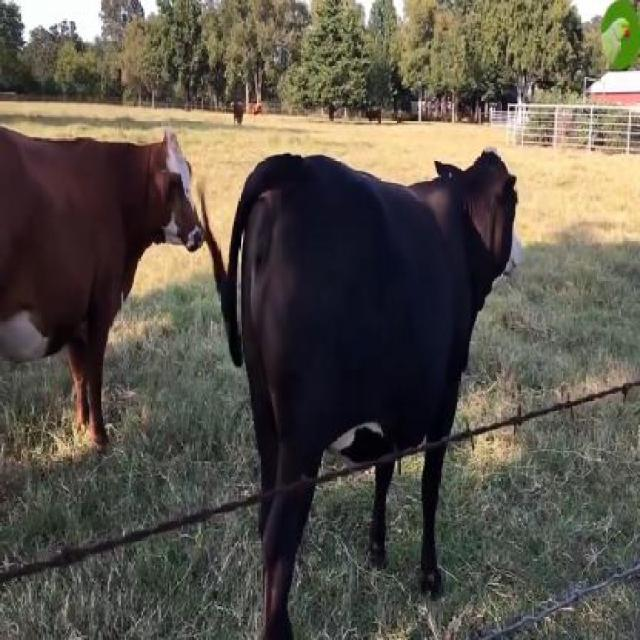Cow: (237, 144, 520, 638), (0, 129, 203, 451)
